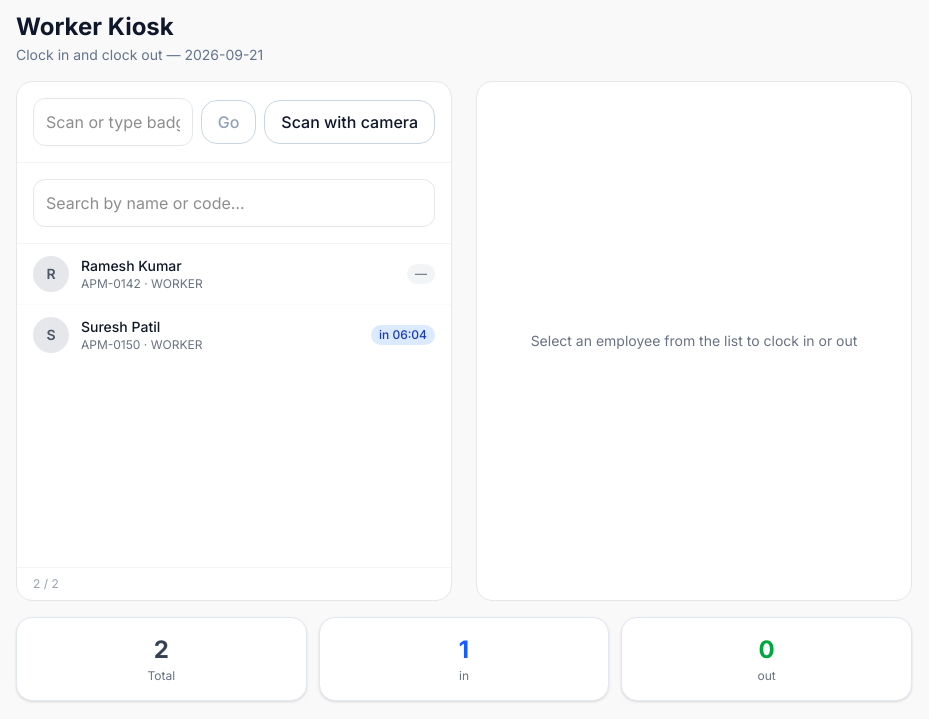
punching › a person already in offers Clock out only, with their in time read on the FACTORY clock
Click the button "Suresh Patil".
click(51, 335)  # box [17,305,451,365]
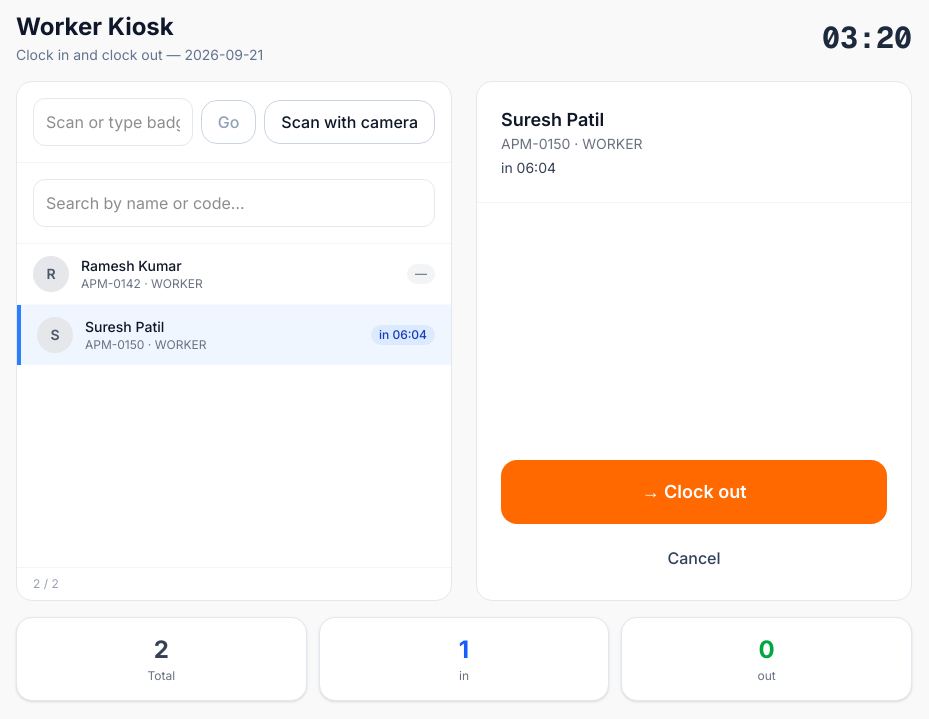
Expected: the 2nd text "in 06:04" is shown, [371,325,435,345]
Expected: the button "→ Clock out" is shown, [501,460,887,524]
